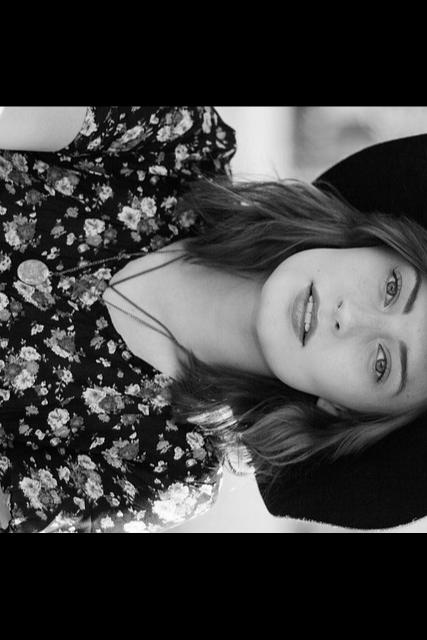Non_Gorille: (0, 114, 427, 533)
